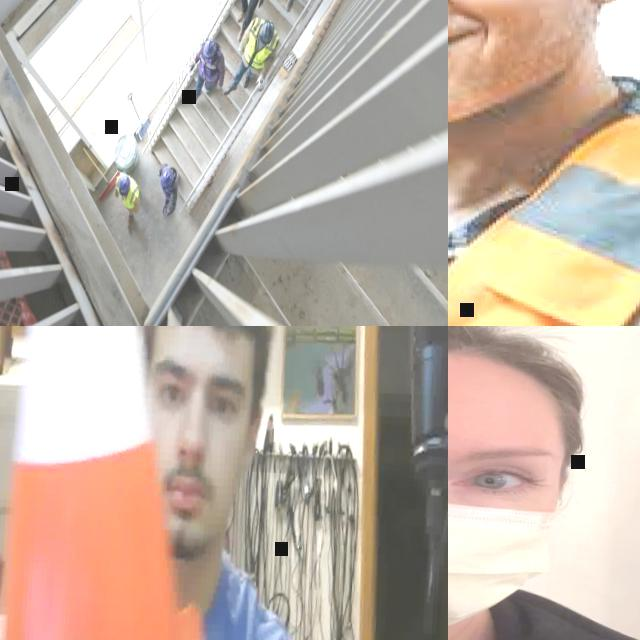helmet: (259, 18, 275, 44), (201, 38, 216, 61), (160, 168, 174, 188), (118, 174, 130, 196)
mask: (448, 457, 573, 640)
no_helmet: (448, 326, 594, 424)
no_mask: (448, 0, 626, 136), (156, 455, 226, 551)
no_vest: (183, 581, 286, 640)
person: (117, 326, 337, 640), (448, 0, 640, 326), (448, 326, 640, 640), (222, 15, 281, 99), (186, 38, 226, 105), (229, 0, 276, 42), (113, 172, 141, 228), (156, 163, 180, 218)
safety_cone: (0, 326, 260, 640)
vest: (448, 77, 640, 326), (243, 16, 281, 70), (114, 172, 140, 208), (199, 40, 222, 78)
